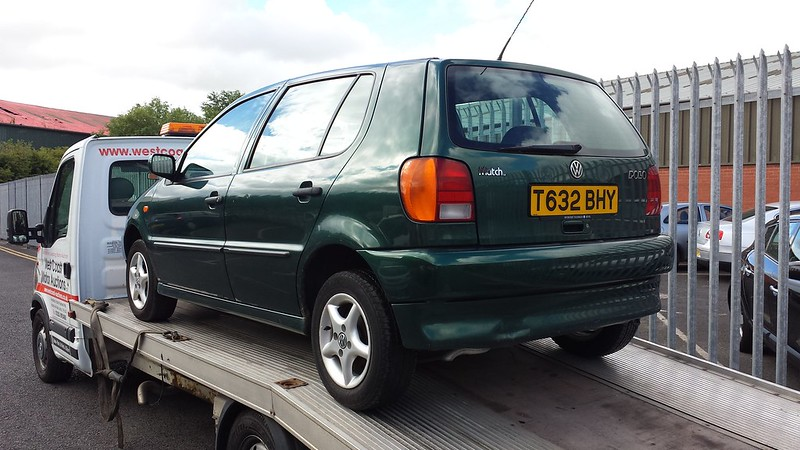number_plate: (516, 177, 633, 226)
